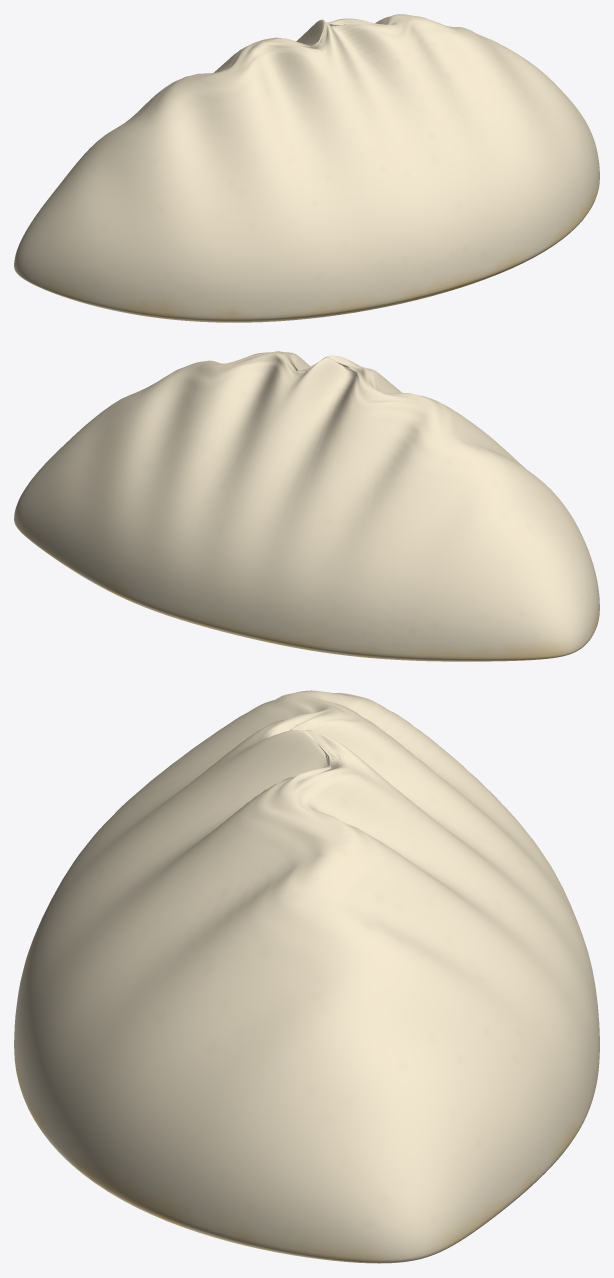
Rendered from gyoza.glb.
The picture shows the model from 3 angles, top to bottom: view 1: azimuth 30°, elevation 25°; view 2: azimuth 150°, elevation 25°; view 3: azimuth 270°, elevation 25°; orthographic projection. The views are drawn at different scales.
Visible parts, largest first — view 1: Gyoza; view 2: Gyoza; view 3: Gyoza.
Boxes of the visible parts, x1,y1,x2,y2 form: Gyoza: (14,14,599,322); Gyoza: (14,351,599,661); Gyoza: (14,690,599,1263).
Size of the model in its own units: 0.4406 by 0.1744 by 0.2553.
1 material, 1 textured.
